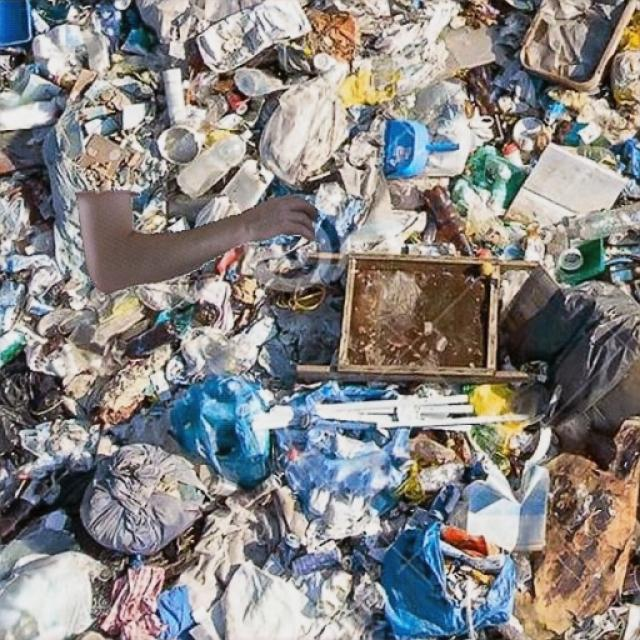Person in Rubble: (75, 188, 316, 294)
